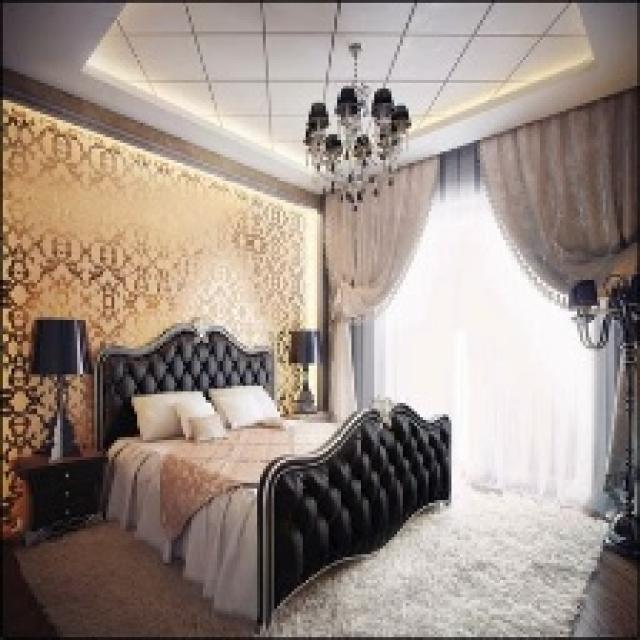Bed: (91, 320, 452, 626)
